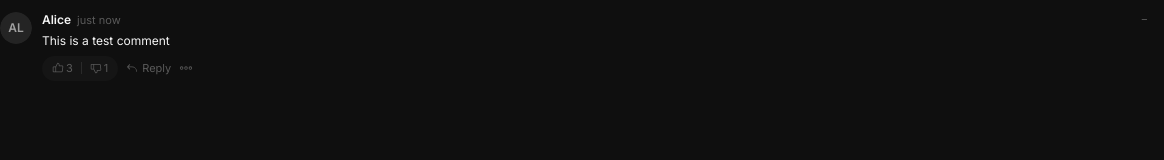
CommentItem › optimistically updates like count when authenticated user clicks like
The image size is (1164, 160).
Expected: the text "Alice" is shown, x1=42 y1=12 x2=71 y2=28
Click the button named "like" at (62, 68), box x1=46 y1=56 x2=79 y2=80
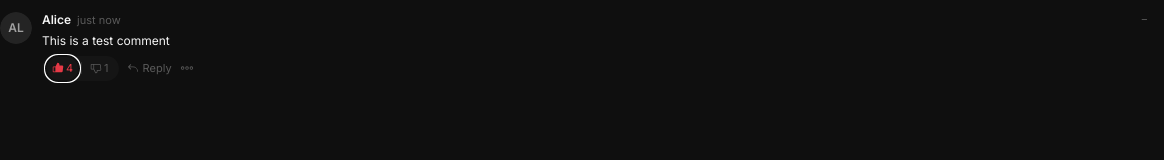
Now the text "4" is shown, box x1=66 y1=60 x2=73 y2=76
